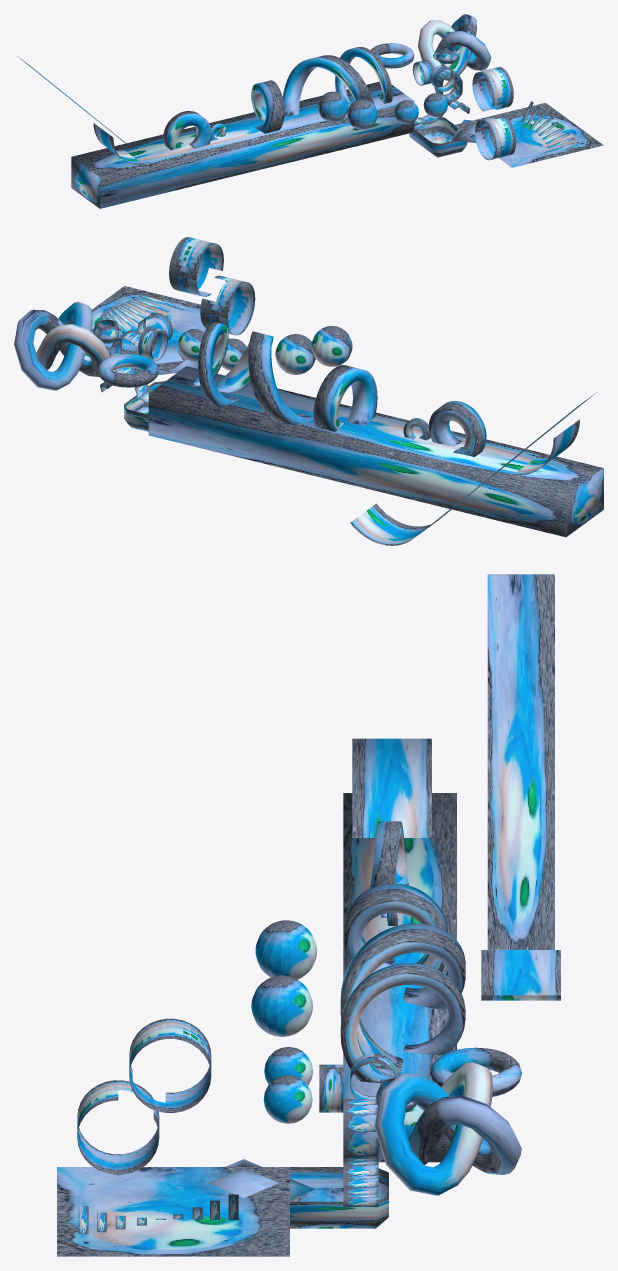
File: Loop.obj
3 views of the same model, one above another, from view 1: azimuth 30°, elevation 25°; view 2: azimuth 150°, elevation 25°; view 3: azimuth 270°, elevation 25° (orthographic). The views are drawn at different scales.
Size of the model in its own units: 2233 by 649 by 1048.
Materials: 1 (1 with a texture image).
